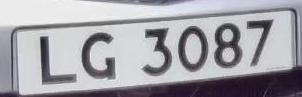0: (173, 18, 211, 78)
3: (135, 21, 176, 83)
7: (242, 14, 277, 72)
8: (209, 16, 245, 73)
G: (77, 26, 123, 87)
L: (30, 28, 80, 91)
